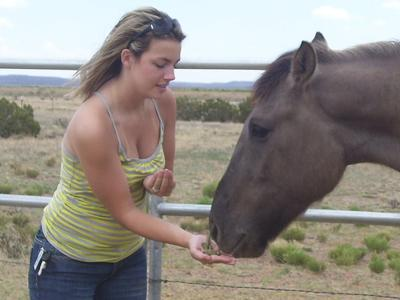person: (26, 9, 237, 300)
